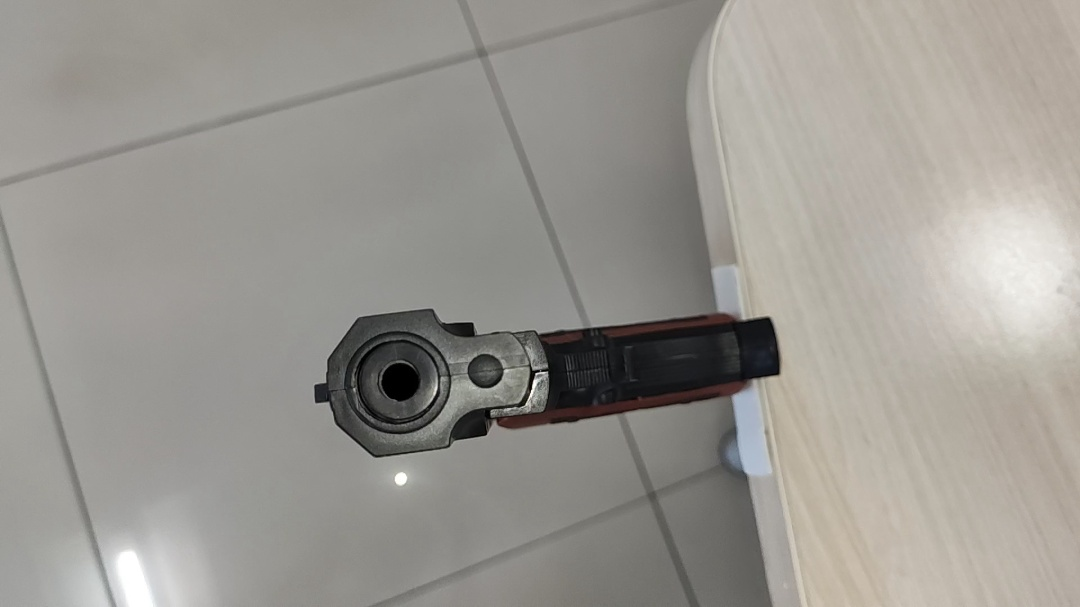gun: (394, 205, 419, 239)
